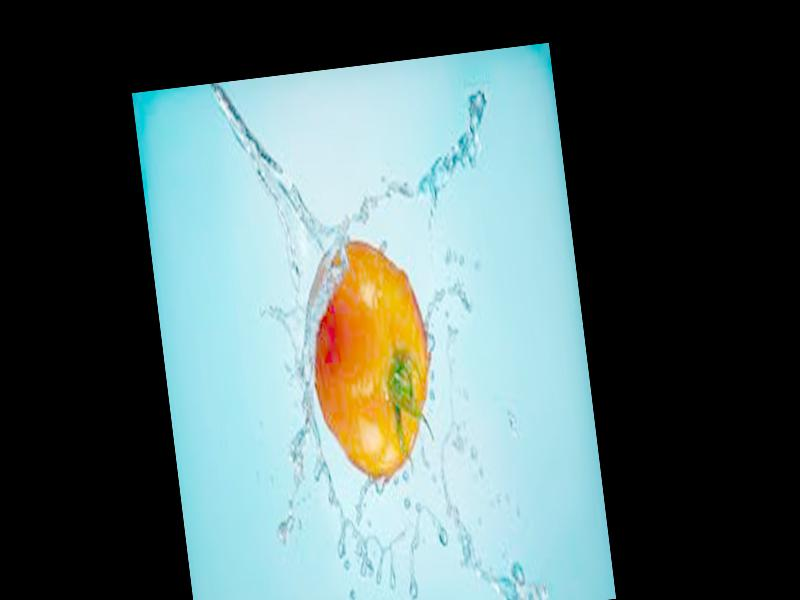Tomato: (296, 234, 442, 487)
